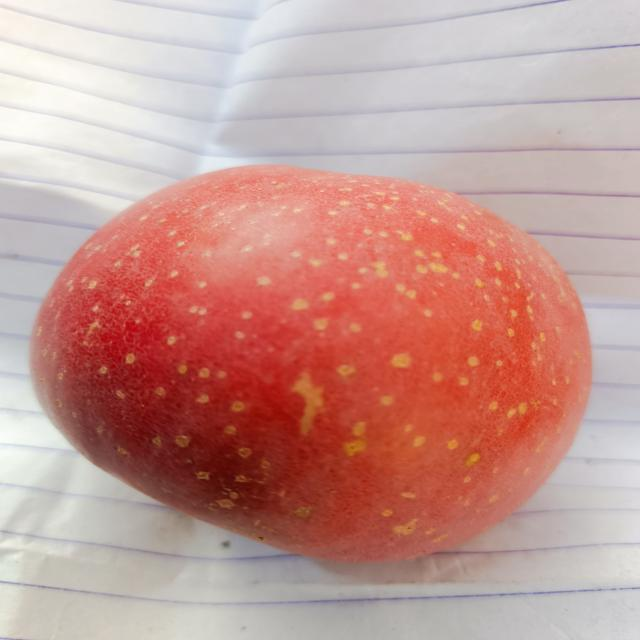Fresh Apple: (45, 158, 597, 592)
